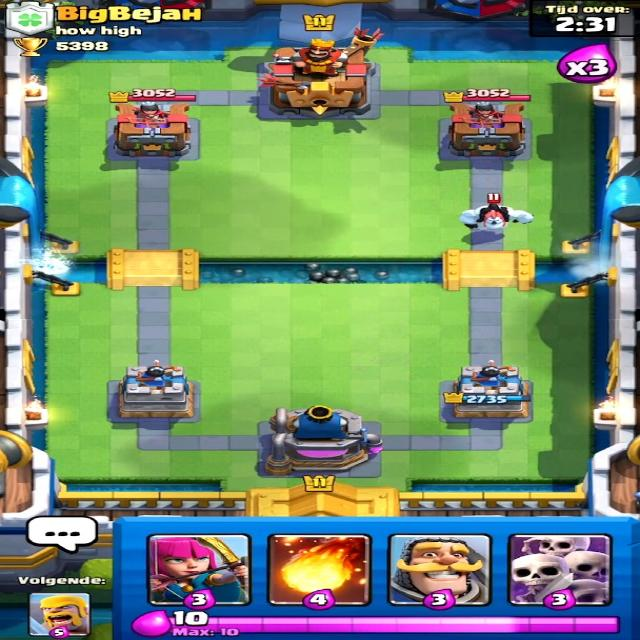Enemy_Ice_Golem_Troop: (453, 202, 533, 234)
Fireball_Card: (270, 535, 370, 607)
